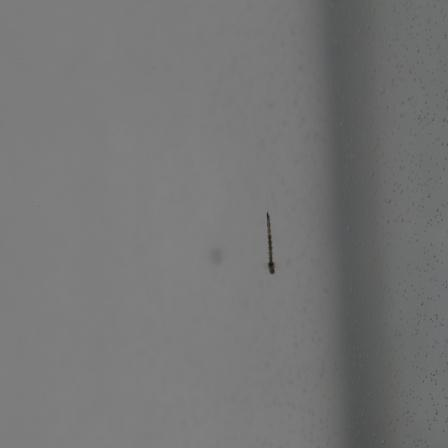Jentik-Nyamuk: (262, 208, 280, 277)
